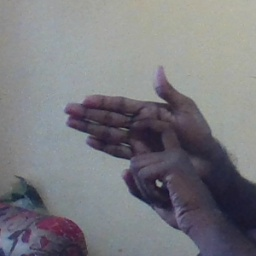R: (63, 64, 205, 194)
